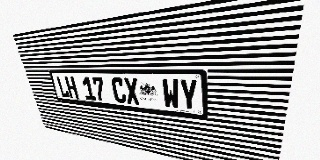1: (81, 77, 96, 101)
7: (91, 77, 107, 102)
C: (110, 77, 127, 104)
H: (64, 76, 79, 99)
L: (56, 76, 70, 98)
W: (161, 79, 180, 109)
X: (123, 78, 140, 105)
Y: (179, 79, 198, 111)
